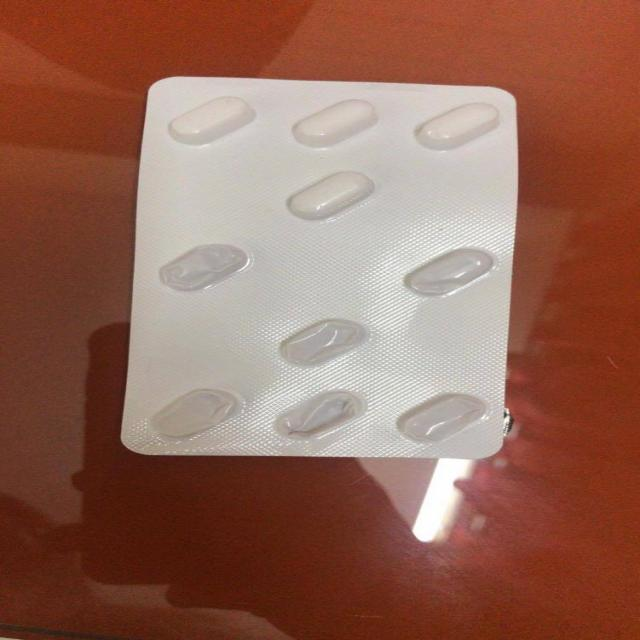Empty: (147, 236, 258, 299), (264, 383, 371, 446), (390, 241, 505, 299), (268, 309, 373, 372), (138, 383, 243, 445), (390, 390, 494, 447)
Pill: (283, 90, 392, 147), (286, 162, 379, 224), (160, 94, 266, 148), (413, 94, 505, 154)
